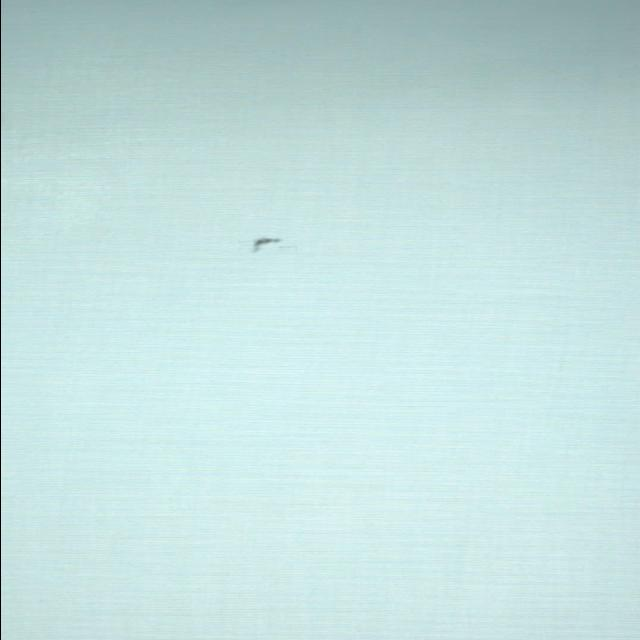dirty: (246, 238, 280, 252)
